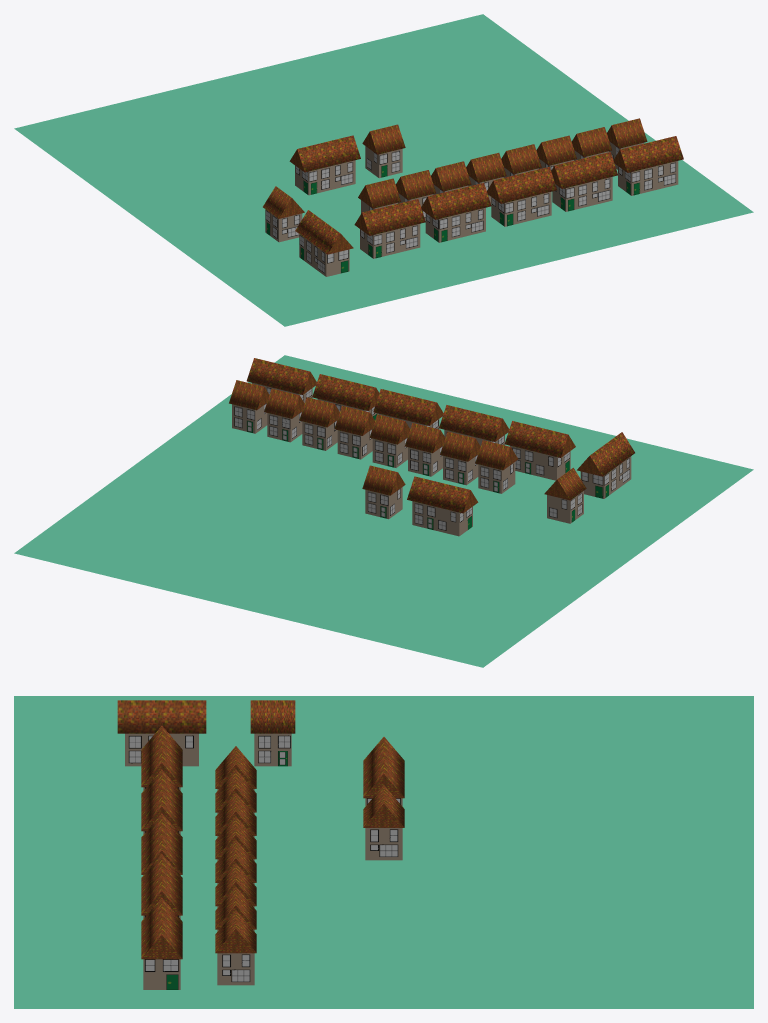
The model's file is village.glb.
The picture shows the model from 3 angles, top to bottom: view 1: azimuth 30°, elevation 25°; view 2: azimuth 150°, elevation 25°; view 3: azimuth 270°, elevation 25°; orthographic projection. The views are drawn at different scales.
Parts seen in each view (by area): view 1: ground, box_merged (×2), house13, house9, house12, house11, house10, house14, house8, house4, house6, house0 (+5 smaller); view 2: ground, box_merged (×2), house13, house14, house9, house7, house12, house11, house10, house3, house2, house4 (+5 smaller); view 3: ground, box_merged (×2), house14, house9, house8, house0, house12, house13, house10, house11, house3, house1 (+5 smaller).
Part boxes in pixels (x1,y1,x2,y2): ground: (14,14,753,326); box_merged (×2): (289,124,405,195); house13: (354,199,425,258); house9: (613,136,683,195); house12: (421,183,491,242); house11: (487,167,556,226); house10: (551,152,617,211); house14: (295,210,353,276); house8: (263,186,304,242); house4: (466,152,506,203); house6: (395,170,435,219); house0: (607,118,647,169); ground: (14,355,753,667); box_merged (×2): (362,465,478,536); house13: (504,421,575,480); house14: (577,432,634,498); house9: (246,358,316,402); house7: (475,440,518,493); house12: (439,405,509,445); house11: (373,389,443,429); house10: (312,374,379,420); house3: (334,406,374,459); house2: (299,397,339,450); house4: (369,414,410,467); ground: (14,696,753,1008); box_merged (×2): (363,737,404,860); house14: (117,700,206,766); house9: (141,898,182,989); house8: (250,700,295,766); house0: (215,910,256,985); house12: (141,769,182,834); house13: (141,726,182,790); house10: (141,854,182,918); house11: (141,813,182,874); house3: (215,840,256,884); house1: (215,887,256,931).
Size of the model in its own units: 20 by 1.74 by 20.
5 materials, 4 textured.
